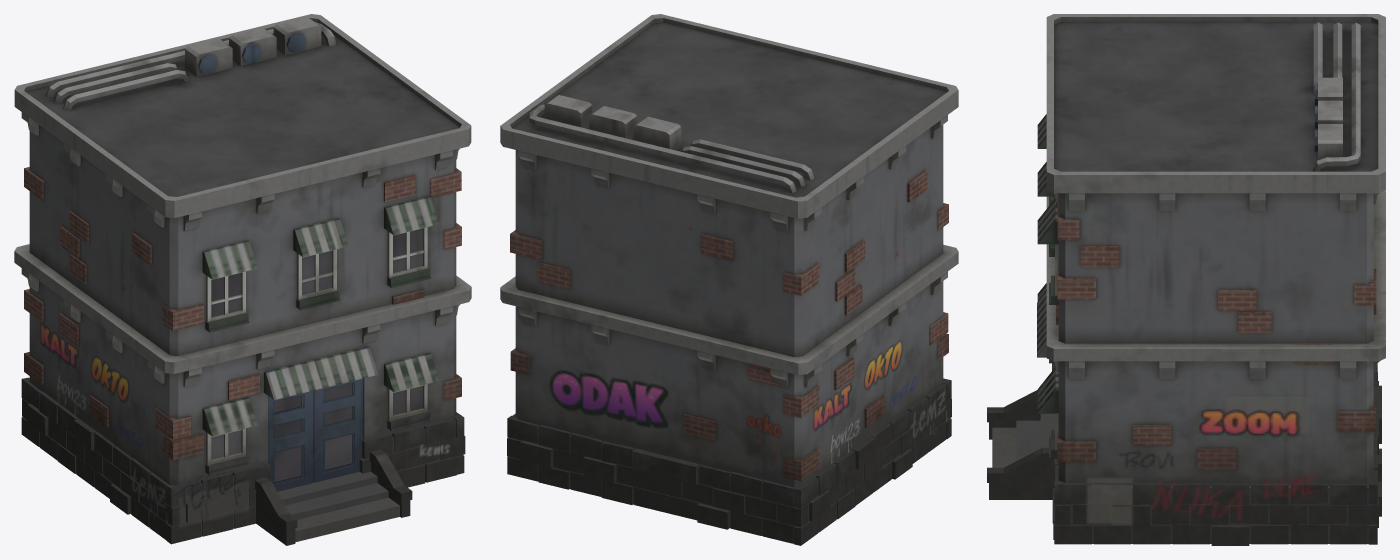
File: 2Story_Double.glb
The picture shows the model from 3 angles, left to right: view 1: azimuth 30°, elevation 25°; view 2: azimuth 150°, elevation 25°; view 3: azimuth 270°, elevation 25°; orthographic projection. The views are drawn at different scales.
Parts seen in each view (by area): view 1: 2Story_Double_low; view 2: 2Story_Double_low; view 3: 2Story_Double_low.
Part boxes in pixels (bbox=[...]): 2Story_Double_low: bbox=[14, 14, 471, 545]; 2Story_Double_low: bbox=[500, 14, 958, 545]; 2Story_Double_low: bbox=[987, 14, 1385, 545].
Bounding box in the file's own units: 2.42 × 2.75 × 2.53.
Materials: 2 (2 with a texture image).
